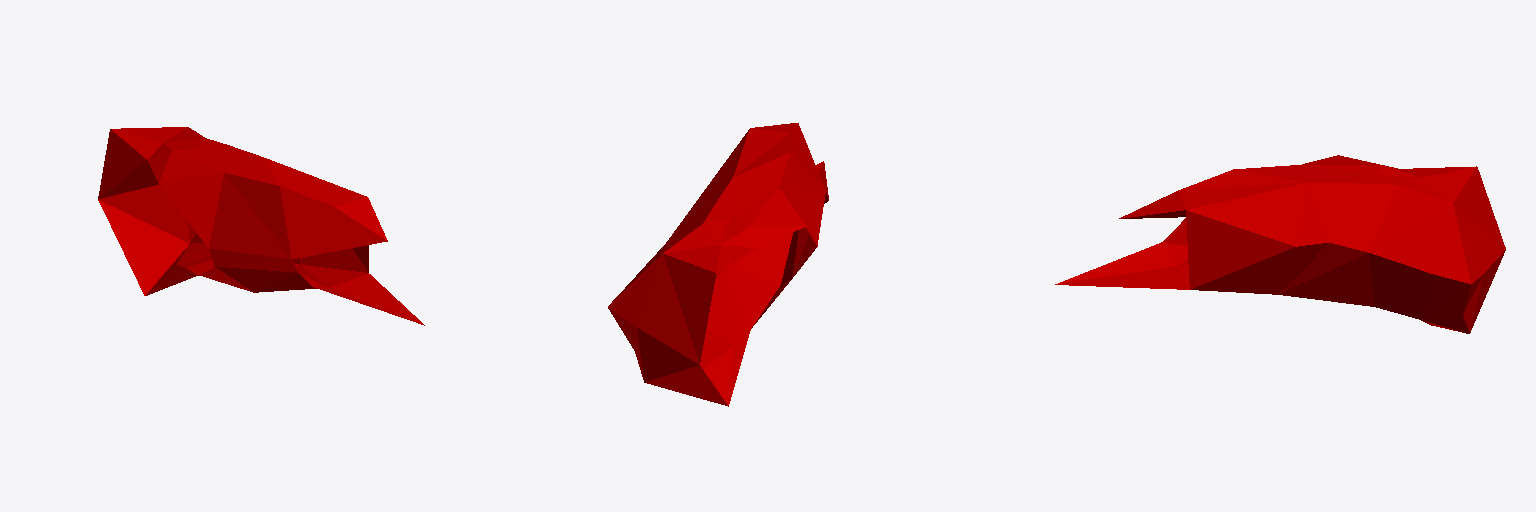
The model's file is arm-right.obj.
The picture shows the model from 3 angles: view 1: azimuth 30°, elevation 25°; view 2: azimuth 150°, elevation 25°; view 3: azimuth 270°, elevation 25°; orthographic projection.
Parts seen in each view (by area): view 1: arm_right.001_Superhot_Enemy_Stl.019; view 2: arm_right.001_Superhot_Enemy_Stl.019; view 3: arm_right.001_Superhot_Enemy_Stl.019.
Part boxes in pixels (x1,y1,x2,y2): arm_right.001_Superhot_Enemy_Stl.019: (98, 127, 424, 325); arm_right.001_Superhot_Enemy_Stl.019: (608, 123, 828, 406); arm_right.001_Superhot_Enemy_Stl.019: (1055, 155, 1505, 333).
Size of the model in its own units: 11.49 by 14.02 by 33.08.